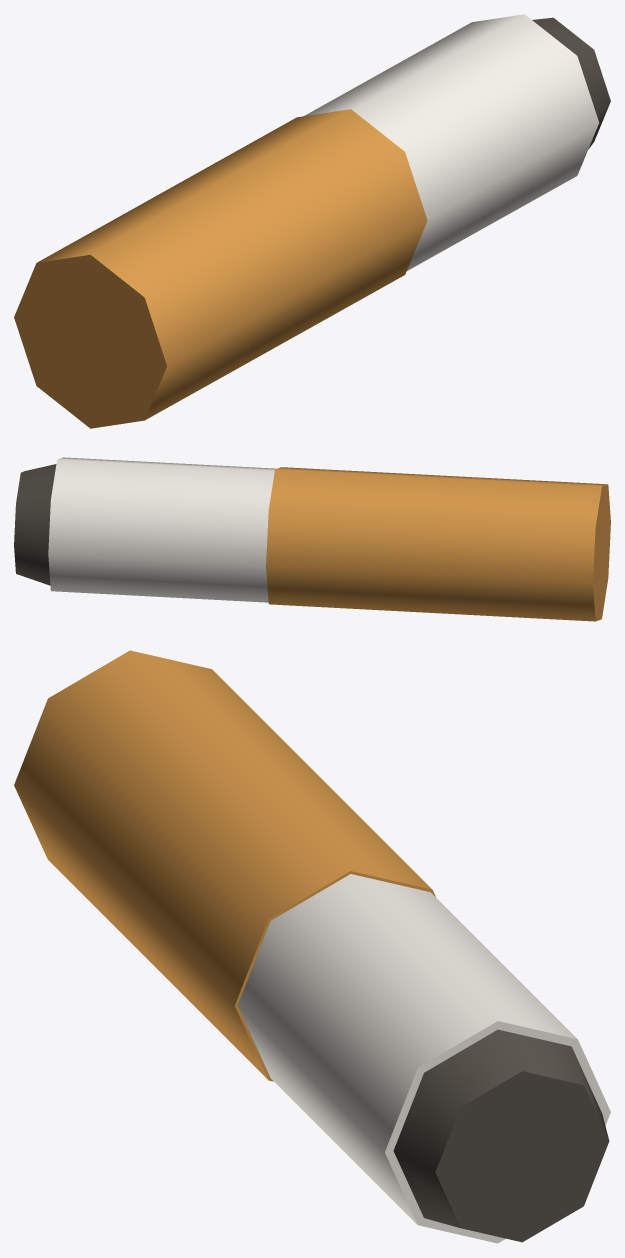
Rendered from cigarette_butt.glb.
The picture shows the model from 3 angles, top to bottom: view 1: azimuth 30°, elevation 25°; view 2: azimuth 150°, elevation 25°; view 3: azimuth 270°, elevation 25°; orthographic projection. The views are drawn at different scales.
Parts seen in each view (by area): view 1: group_0; view 2: group_0; view 3: group_0.
Part boxes in pixels (x1,y1,x2,y2): group_0: [14, 14, 610, 428]; group_0: [14, 457, 610, 621]; group_0: [14, 650, 610, 1243].
Size of the model in its own units: 3.22 by 0.8 by 1.9.
